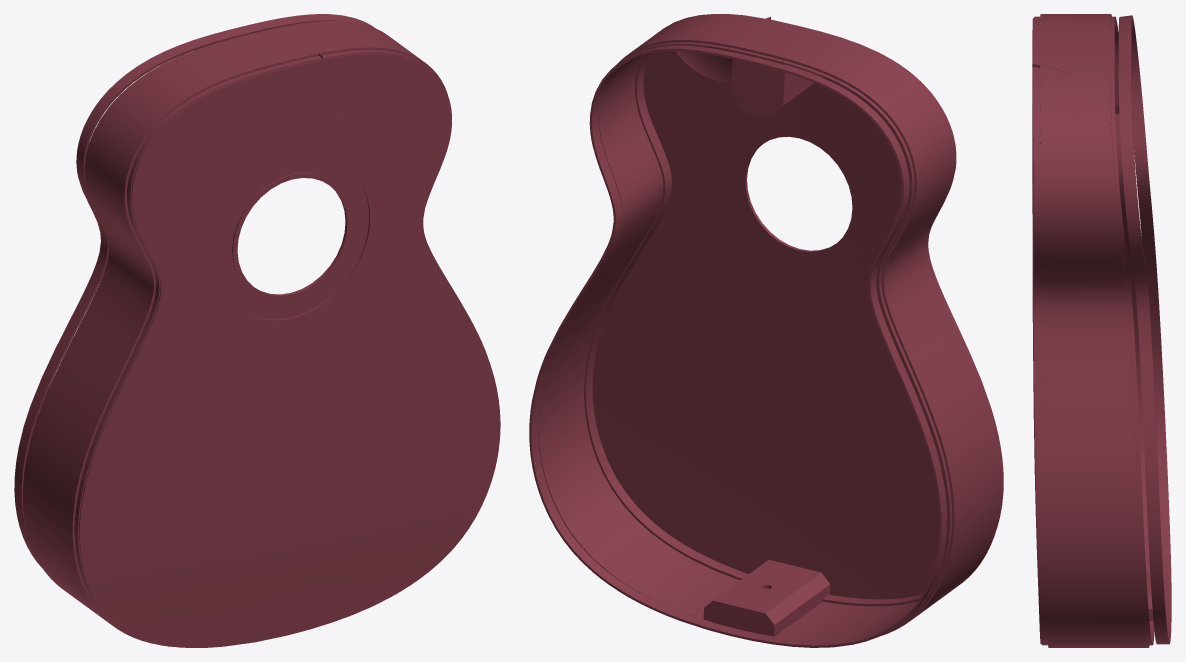
File: Parlor_Collection-transformed.glb
3 renders of one model, left to right at view 1: azimuth 30°, elevation 25°; view 2: azimuth 150°, elevation 25°; view 3: azimuth 270°, elevation 25°, orthographic. The views are drawn at different scales.
Parts seen in each view (by area): view 1: Body_Soundboard_Arm_Bevel_Cutaway_Florentine.001, Body_Soundboard_Arm_Bevel_Cutaway_Venetian.001, Body_Soundboard.001, Body_Sides_Arm_Bevel_Scalloped_Cutaway.001, Body_Sides.001, Body_Soundboard_Florentine_Cutaway.001, Body_Soundboard_Arm_Bevel.001, Body_Soundboard_Venetian_Cutaway.001, Body_Lining_Bottom.001; view 2: Body_Soundboard_Florentine_Cutaway.001, Body_Sides_Arm_Bevel_Scalloped_Cutaway.001, Body_Sides.001, Body_Soundboard.001, Body_Soundboard_Arm_Bevel_Cutaway_Venetian.001, Body_Lining_Bottom.001, Body_Soundboard_Venetian_Cutaway.001, Body_Soundboard_Arm_Bevel.001, Body_Lining_Top.001, Body_Tail_Block.004, Body_Heel_Block.004, Body_Soundboard_Arm_Bevel_Cutaway_Florentine.001; view 3: Body_Sides.001, Body_Sides_Arm_Bevel_Scalloped_Cutaway.001, Body_Lining_Bottom.001, Body_Soundboard_Arm_Bevel.001, Body_Soundboard_Arm_Bevel_Cutaway_Florentine.001, Body_Soundboard_Venetian_Cutaway.001, Body_Soundboard.001, Body_Soundboard_Florentine_Cutaway.001, Body_Soundboard_Arm_Bevel_Cutaway_Venetian.001, Body_Heel_Block.004, Body_Tail_Block.004.
Part boxes in pixels (x1,y1,x2,y2): Body_Soundboard_Arm_Bevel_Cutaway_Florentine.001: (112,58,500,643); Body_Soundboard_Arm_Bevel_Cutaway_Venetian.001: (115,78,497,640); Body_Soundboard.001: (77,51,482,647); Body_Sides_Arm_Bevel_Scalloped_Cutaway.001: (23,21,487,647); Body_Sides.001: (23,21,478,647); Body_Soundboard_Florentine_Cutaway.001: (77,62,500,644); Body_Soundboard_Arm_Bevel.001: (114,51,500,629); Body_Soundboard_Venetian_Cutaway.001: (77,62,500,646); Body_Lining_Bottom.001: (14,14,375,567); Body_Soundboard_Florentine_Cutaway.001: (593,34,1003,599); Body_Sides_Arm_Bevel_Scalloped_Cutaway.001: (538,17,1002,640); Body_Sides.001: (538,14,1002,640); Body_Soundboard.001: (593,14,1003,572); Body_Soundboard_Arm_Bevel_Cutaway_Venetian.001: (605,73,922,589); Body_Lining_Bottom.001: (529,45,947,647); Body_Soundboard_Venetian_Cutaway.001: (592,71,1003,572); Body_Soundboard_Arm_Bevel.001: (592,14,956,585); Body_Lining_Top.001: (584,53,929,606); Body_Tail_Block.004: (703,560,830,636); Body_Heel_Block.004: (730,51,822,118); Body_Soundboard_Arm_Bevel_Cutaway_Florentine.001: (593,20,956,548); Body_Sides.001: (1036,14,1154,647); Body_Sides_Arm_Bevel_Scalloped_Cutaway.001: (1032,14,1154,647); Body_Lining_Bottom.001: (1118,15,1171,644); Body_Soundboard_Arm_Bevel.001: (1032,16,1043,644); Body_Soundboard_Arm_Bevel_Cutaway_Florentine.001: (1032,16,1043,645); Body_Soundboard_Venetian_Cutaway.001: (1032,52,1043,644); Body_Soundboard.001: (1032,17,1043,645); Body_Soundboard_Florentine_Cutaway.001: (1032,17,1043,642); Body_Soundboard_Arm_Bevel_Cutaway_Venetian.001: (1032,151,1037,561); Body_Heel_Block.004: (1114,42,1119,114); Body_Tail_Block.004: (1146,570,1153,620).
Bounding box in the file's own units: 0.3754 × 0.4858 × 0.1096.
